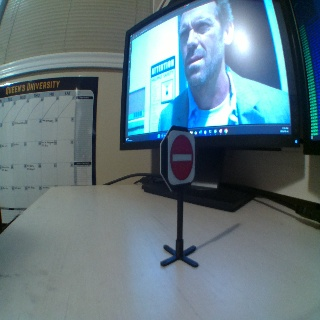sign_noentry: (166, 129, 194, 182)
